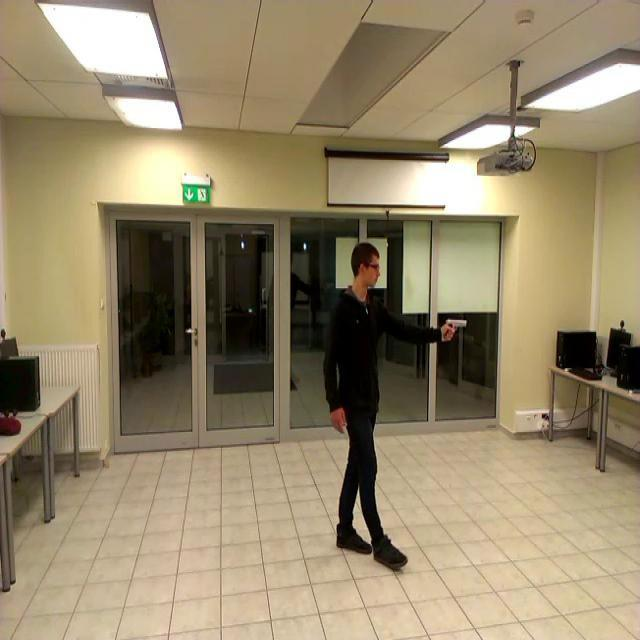weapon: (439, 317, 468, 343)
